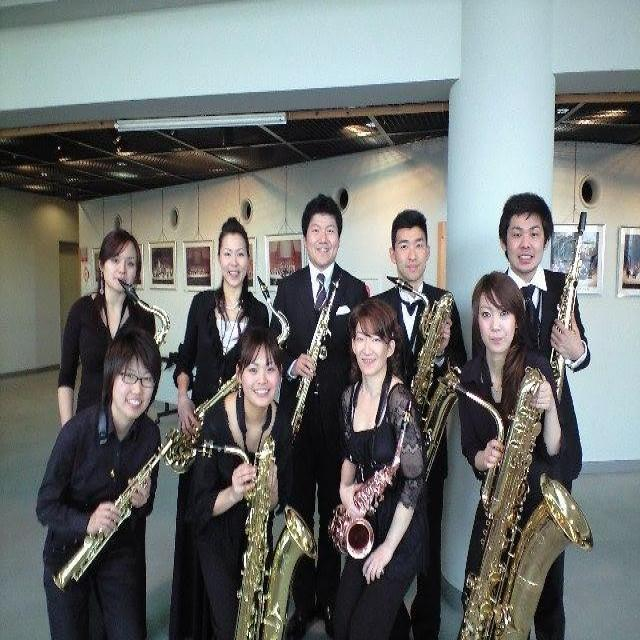saxophone: (164, 273, 293, 473), (196, 433, 320, 640), (382, 278, 466, 482), (327, 400, 417, 558)
